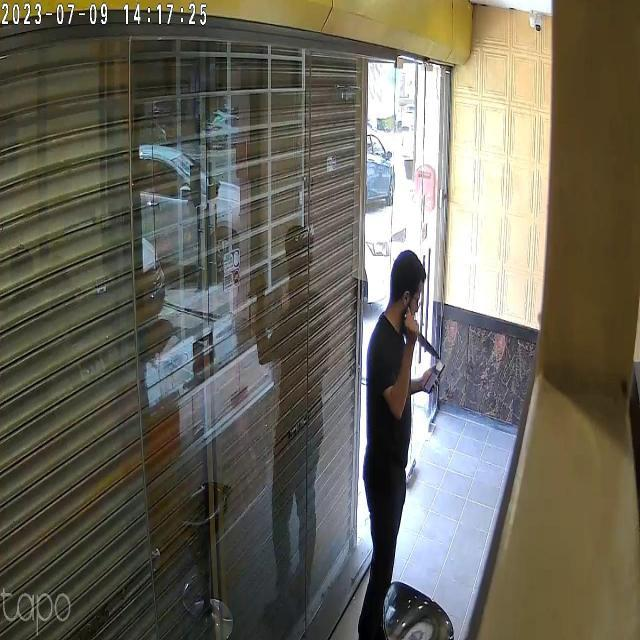Knife: (405, 323, 454, 362)
